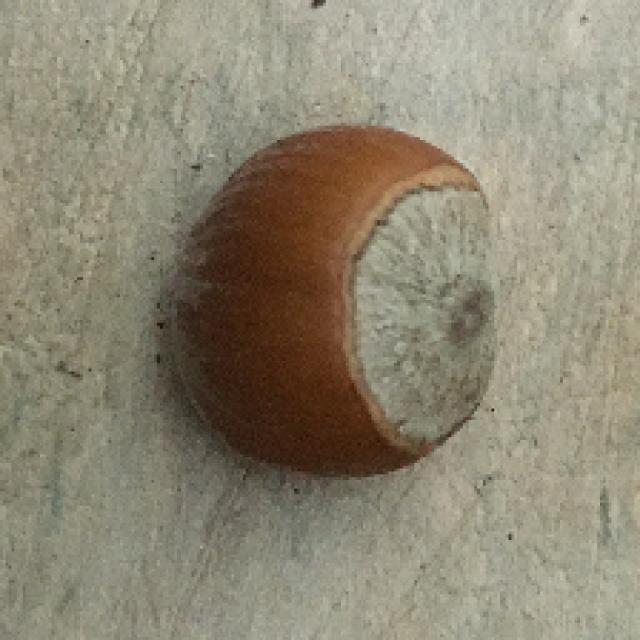qualityHazelnut: (171, 114, 499, 478)
